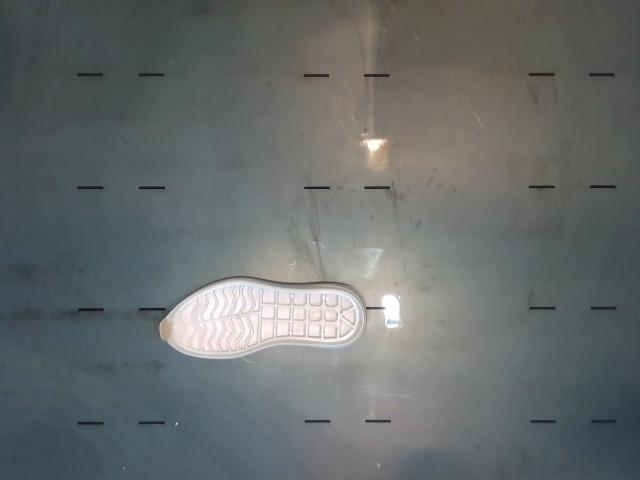shoes: (160, 281, 363, 358)
